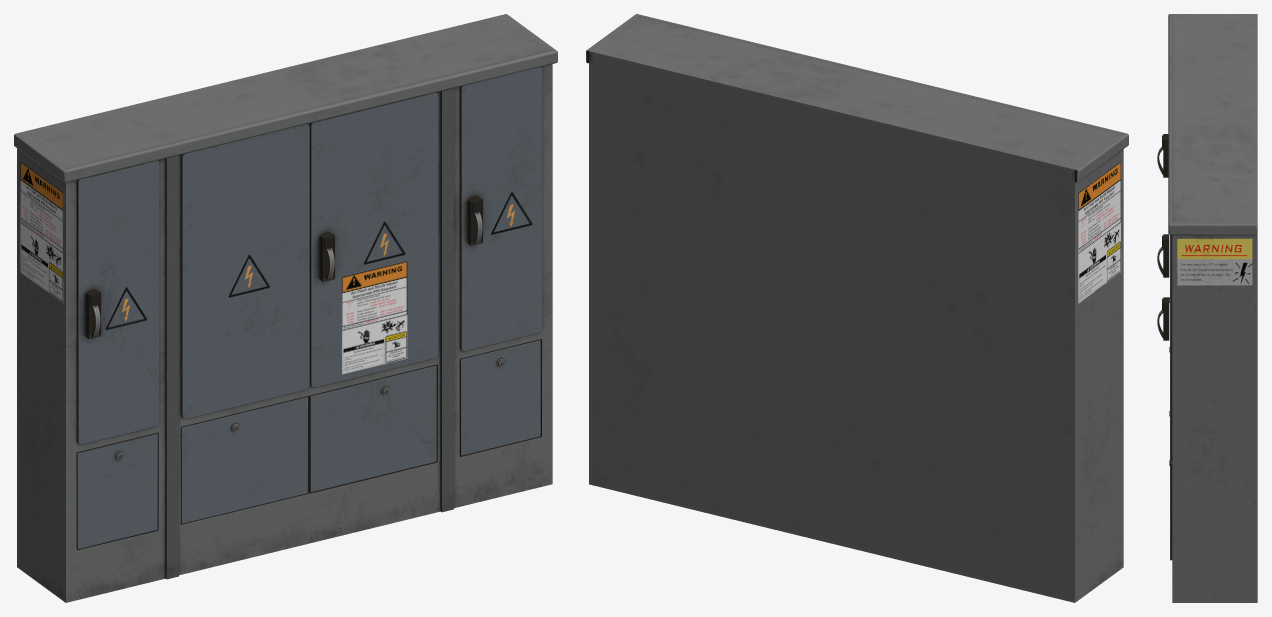
3 renders of one model, left to right at view 1: azimuth 30°, elevation 25°; view 2: azimuth 150°, elevation 25°; view 3: azimuth 270°, elevation 25°, orthographic. The views are drawn at different scales.
Visible parts, largest first — view 1: box_Electricity_metallic; view 2: box_Electricity_metallic; view 3: box_Electricity_metallic.
Boxes of the visible parts, left/top/right/bottom form: box_Electricity_metallic: left=14, top=14, right=557, bottom=602; box_Electricity_metallic: left=586, top=14, right=1128, bottom=602; box_Electricity_metallic: left=1157, top=14, right=1257, bottom=602.
Bounding box in the file's own units: 2.35 × 1.97 × 0.4722.
Materials: 1 (1 with a texture image).
